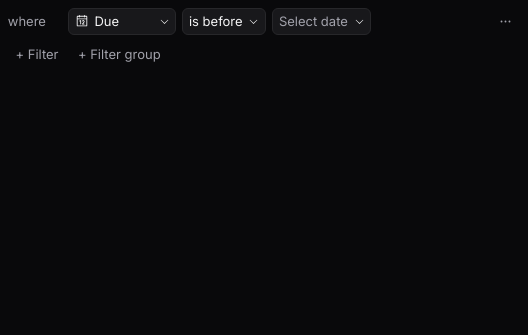
it: FilterEditor › test date filter says Select date until a date is chosen
This screenshot has width=528, height=335.
Click the button "Select date": coordinates (322, 21) 272,8 -> 372,35
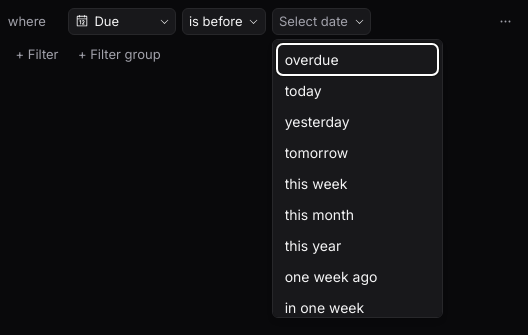
Now the menu named "Date" is shown, box 272,39 -> 442,318
